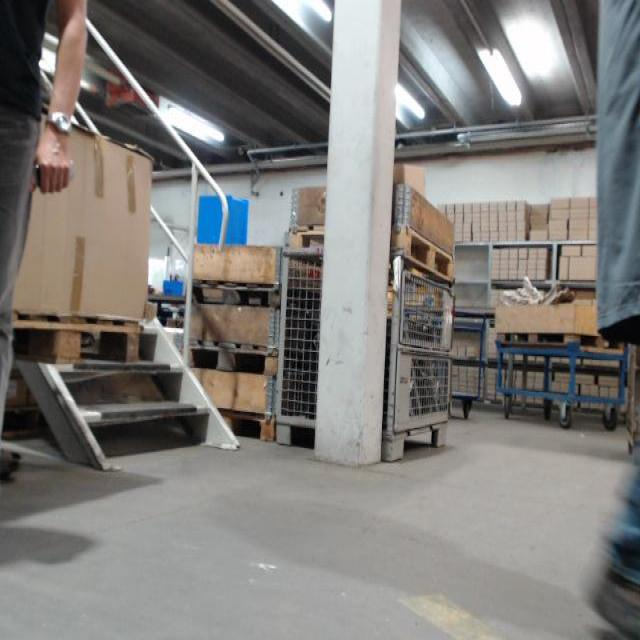pallet: (287, 218, 454, 285), (9, 303, 141, 364), (495, 326, 626, 358), (185, 335, 283, 376), (187, 273, 285, 309), (217, 405, 278, 443)
stillage: (272, 237, 458, 462)
